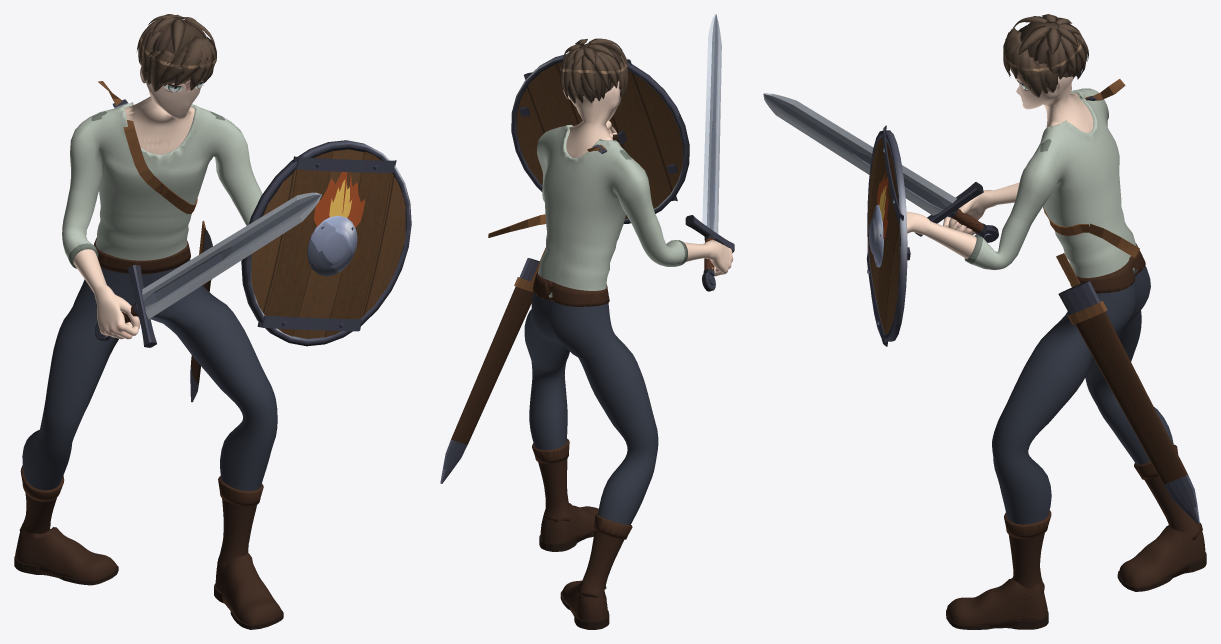
File: adventurer-a040-pose.glb
3 renders of one model, left to right at view 1: azimuth 30°, elevation 25°; view 2: azimuth 150°, elevation 25°; view 3: azimuth 270°, elevation 25°, orthographic. The views are drawn at different scales.
Parts seen in each view (by area): view 1: AG_Shield, Enosh_Outfit_Trousers, Enosh_Outfit_Shirt, AG_Sword, Enosh_Outfit_BootFeet, Enosh_Skin, Enosh_Hair_01, Enosh_Outfit_Boots, AG_ShieldSling, Enosh_Outfit_Belt, Enosh_Outfit_BootCuffs, Enosh_Outfit_BootSoles (+1 smaller); view 2: Enosh_Outfit_Trousers, Enosh_Outfit_Shirt, AG_Shield, AG_Scabbard, AG_Sword, Enosh_Hair_01, Enosh_Skin, Enosh_Outfit_Boots, Enosh_Outfit_BootFeet, Enosh_Outfit_Belt, Enosh_Outfit_BootCuffs, Enosh_Outfit_BootSoles (+1 smaller); view 3: Enosh_Outfit_Trousers, Enosh_Outfit_Shirt, AG_Scabbard, AG_Shield, Enosh_Outfit_BootFeet, AG_Sword, Enosh_Hair_01, Enosh_Skin, Enosh_Outfit_Boots, Enosh_Outfit_Belt, Enosh_Outfit_BootSoles, Enosh_Outfit_BootCuffs (+1 smaller).
Boxes of the visible parts, x1,y1,x2,y2 form: AG_Shield: (241,140,411,346); Enosh_Outfit_Trousers: (22,259,277,491); Enosh_Outfit_Shirt: (62,102,262,268); AG_Sword: (95,192,321,347); Enosh_Outfit_BootFeet: (15,523,281,625); Enosh_Skin: (73,68,202,339); Enosh_Hair_01: (136,14,216,91); Enosh_Outfit_Boots: (19,493,256,569); AG_ShieldSling: (112,99,197,213); Enosh_Outfit_Belt: (94,237,190,274); Enosh_Outfit_BootCuffs: (20,465,263,506); Enosh_Outfit_BootSoles: (14,556,283,629); Enosh_Outfit_Trousers: (524,292,658,525); Enosh_Outfit_Shirt: (537,125,687,297); AG_Shield: (511,54,689,223); AG_Scabbard: (440,247,546,483); AG_Sword: (685,14,734,291); Enosh_Hair_01: (559,38,628,103); Enosh_Skin: (563,81,733,276); Enosh_Outfit_Boots: (538,458,623,597); Enosh_Outfit_BootFeet: (540,503,607,622); Enosh_Outfit_Belt: (532,270,609,306); Enosh_Outfit_BootCuffs: (532,438,632,539); Enosh_Outfit_BootSoles: (539,532,609,629); Enosh_Outfit_Trousers: (992,266,1173,524); Enosh_Outfit_Shirt: (964,88,1136,277); AG_Scabbard: (1056,253,1199,523); AG_Shield: (866,125,910,346); Enosh_Outfit_BootFeet: (946,525,1205,627); AG_Sword: (763,93,998,242); Enosh_Hair_01: (1003,14,1088,97); Enosh_Skin: (906,76,1093,258); Enosh_Outfit_Boots: (1009,476,1202,596); Enosh_Outfit_Belt: (1070,243,1145,293); Enosh_Outfit_BootSoles: (946,552,1206,629); Enosh_Outfit_BootCuffs: (1004,444,1178,539).
Size of the model in its own units: 0.8177 by 1.65 by 1.14.
Materials: 27 (16 with a texture image).
